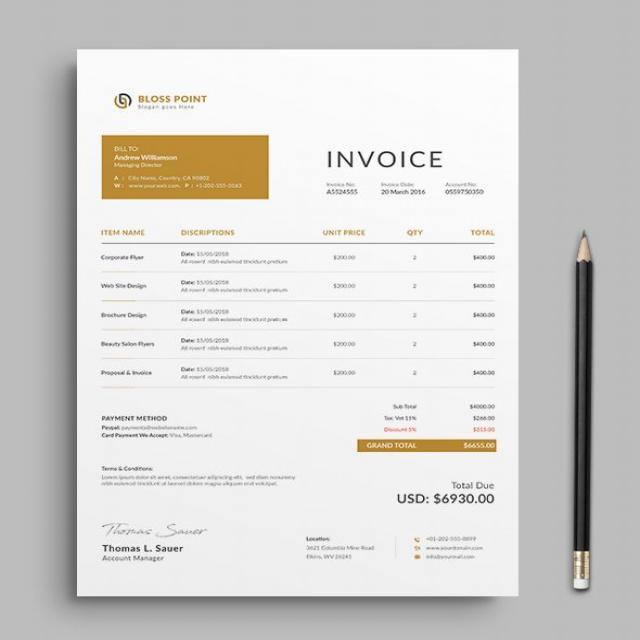customer_address: (110, 172, 212, 182)
customer_name: (112, 153, 180, 169)
invoice_date: (379, 188, 429, 198)
invoice_number: (324, 188, 359, 196)
invoice_subtotal: (466, 400, 500, 410)
invoice_total: (458, 441, 499, 452)
item_description: (176, 246, 295, 385)
item_quantity: (403, 247, 427, 384)
item_total_price: (464, 247, 502, 383)
item_unit_price: (324, 247, 363, 383)
supplier_address: (304, 542, 376, 562)
supplier_name: (135, 92, 211, 112)
tax_amount: (471, 412, 498, 422)
